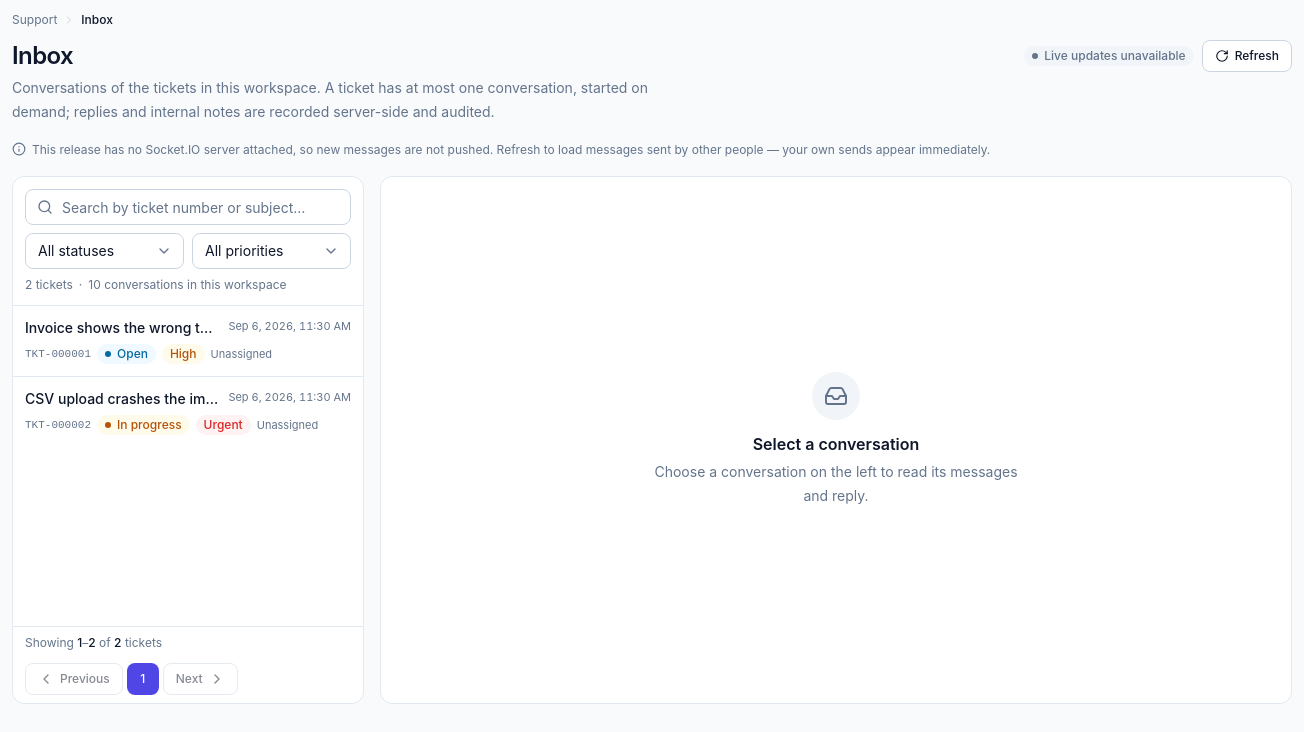
InboxPage › keeps the draft and shows an error when the send fails
The image size is (1304, 732).
Click the button "Invoice shows the wrong total".
click(188, 341)  # box [13, 306, 363, 376]
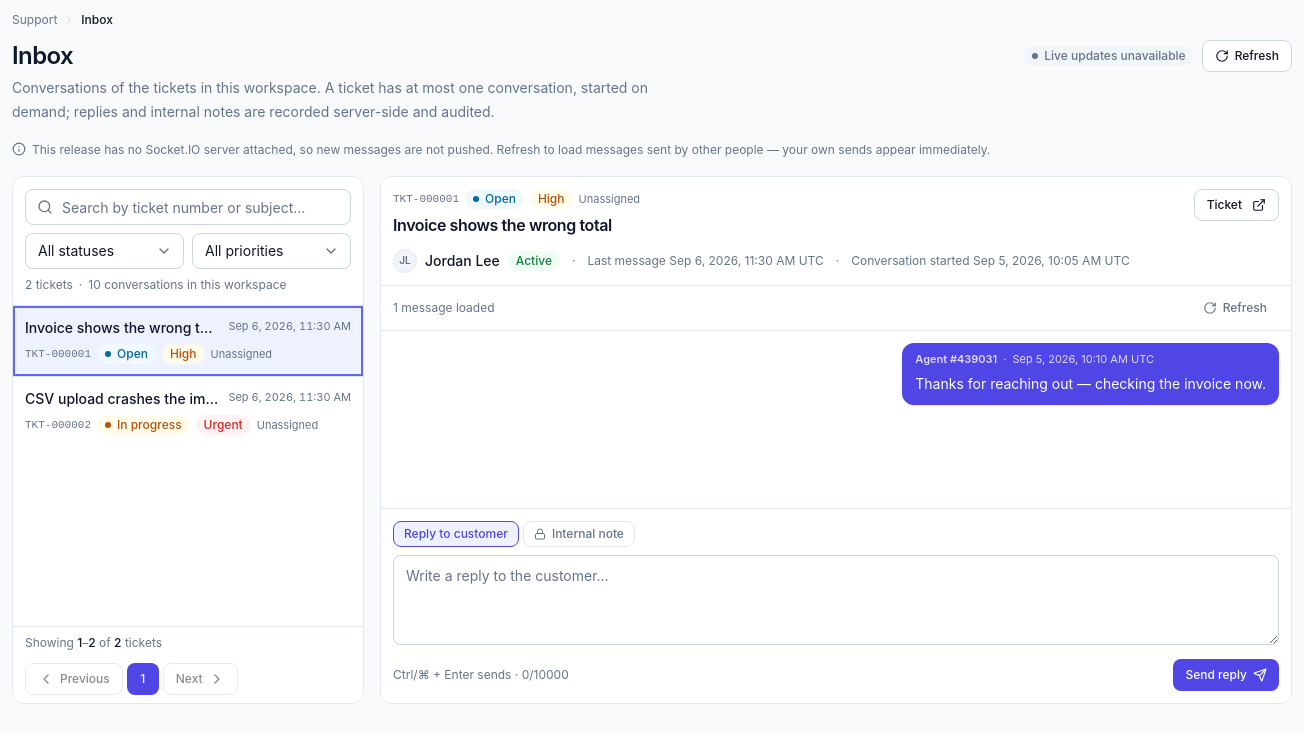
Expected: the text "Thanks for reaching out — checking the invoice now." is shown, [915, 372, 1266, 396]
Type "Draft that must survive" into the text box.
click(836, 600); type("Draft that must survive")  # box [393, 555, 1279, 645]
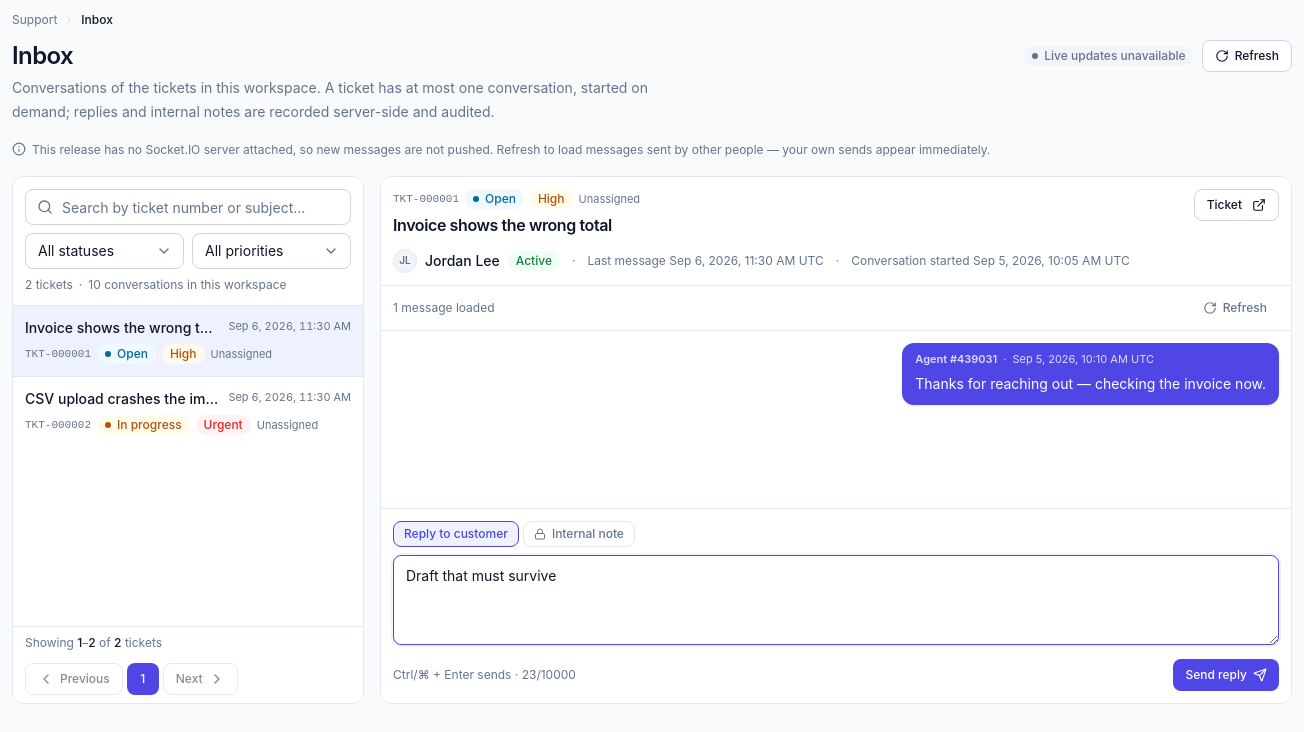
Click the button "Send reply".
click(1226, 675)  # box [1174, 659, 1279, 691]
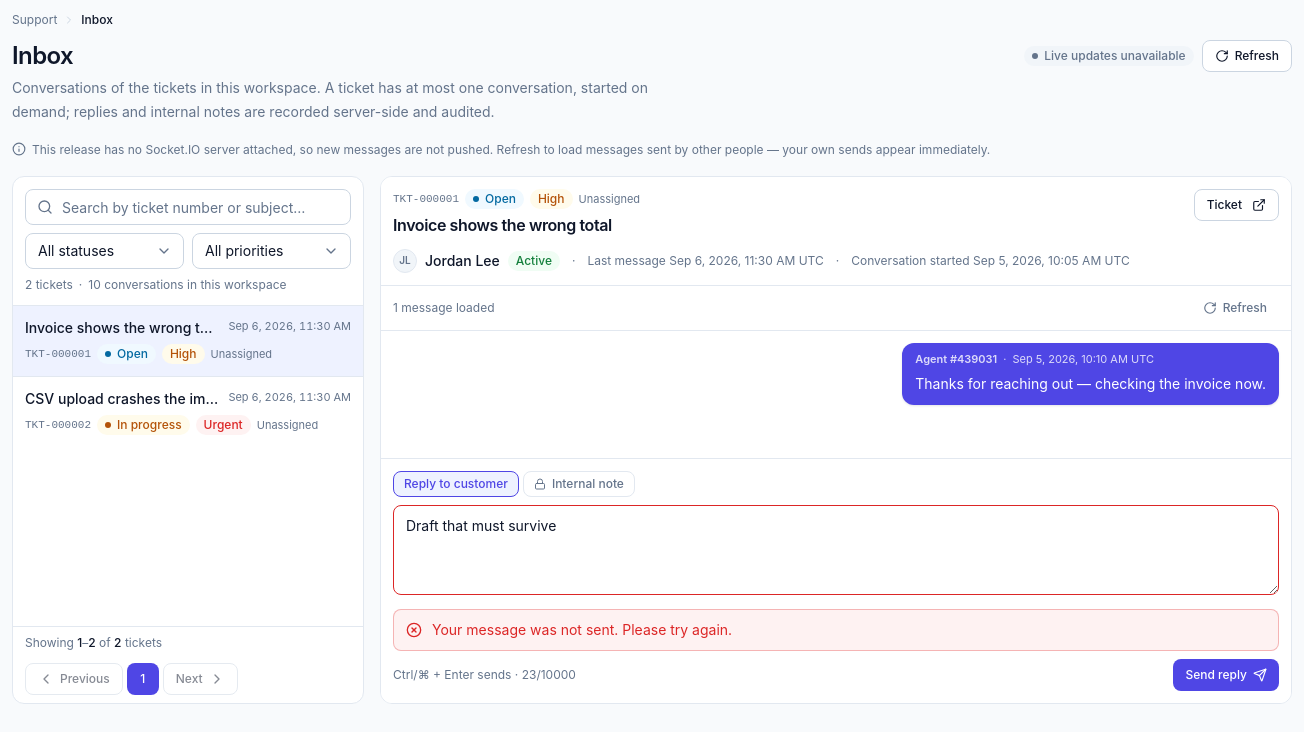
Expected: the text "Your message was not sent. Please try again." is shown, [432, 620, 732, 640]
